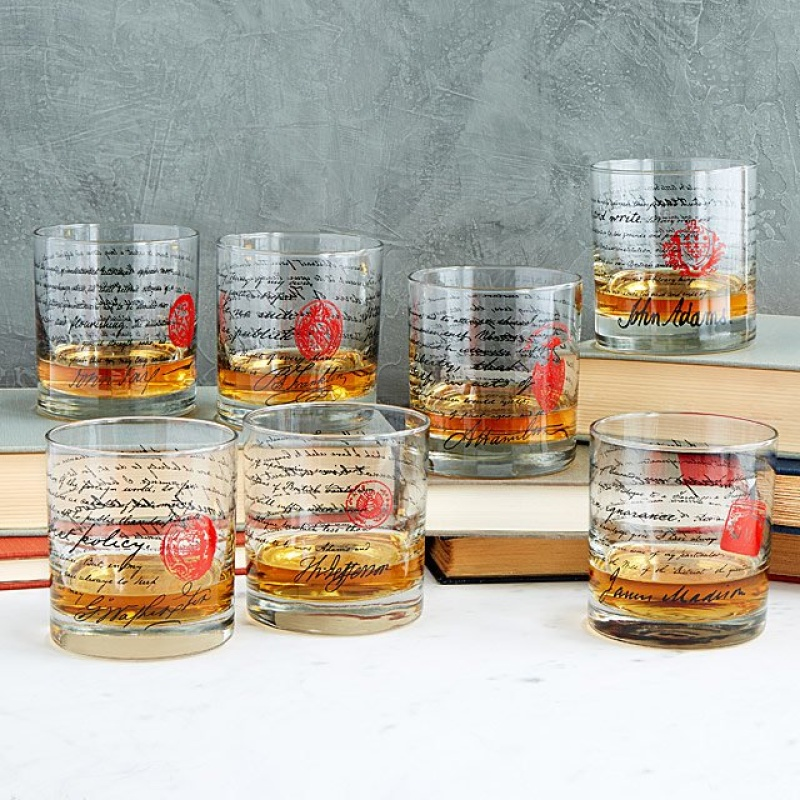whiskey: (231, 404, 438, 626), (44, 414, 234, 642), (588, 411, 772, 646), (211, 226, 393, 416), (36, 219, 208, 415), (409, 271, 575, 458), (588, 160, 752, 349)
